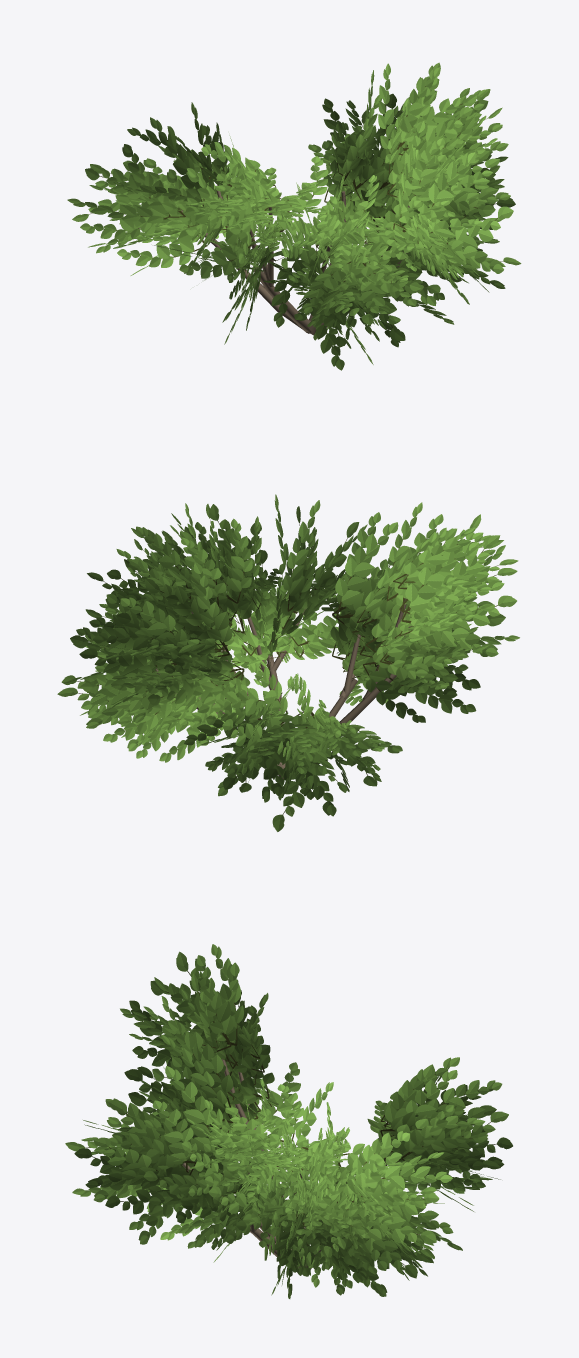
Rendered from bush_2.glb.
The picture shows the model from 3 angles, top to bottom: view 1: azimuth 30°, elevation 25°; view 2: azimuth 150°, elevation 25°; view 3: azimuth 270°, elevation 25°; orthographic projection. The views are drawn at different scales.
Parts seen in each view (by area): view 1: bush_2; view 2: bush_2; view 3: bush_2.
Part boxes in pixels (<box>): bush_2: <box>67,62,521,370</box>; bush_2: <box>57,494,519,831</box>; bush_2: <box>65,944,512,1298</box>.
Size of the model in its own units: 3.03 by 1.94 by 3.16.
Materials: 2 (1 with a texture image).
